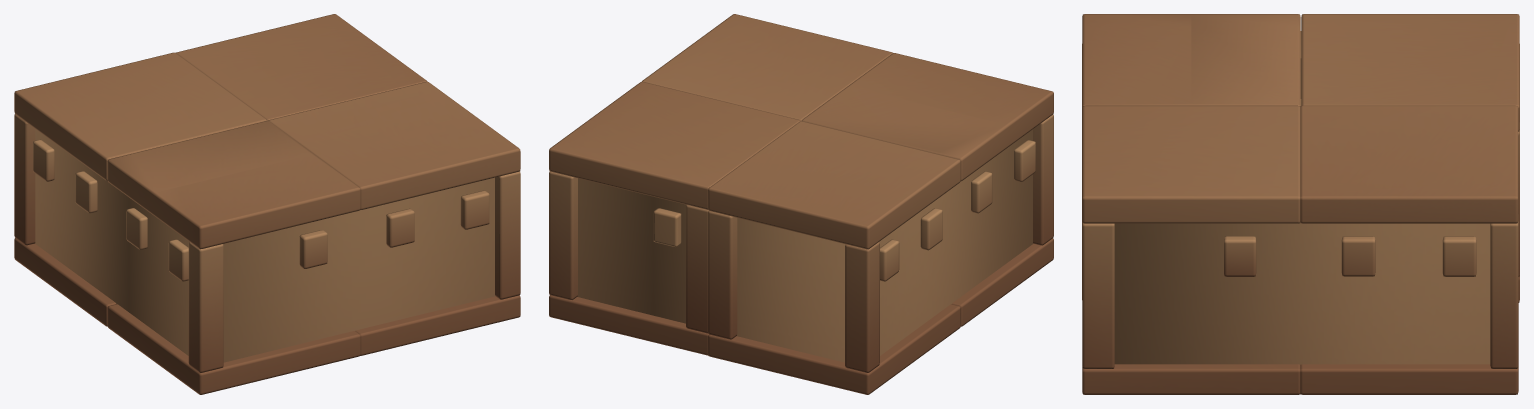
File: SM_Clay_Body_02.fbx
The picture shows the model from 3 angles, left to right: view 1: azimuth 30°, elevation 25°; view 2: azimuth 150°, elevation 25°; view 3: azimuth 270°, elevation 25°; orthographic projection. The views are drawn at different scales.
Parts seen in each view (by area): view 1: SM_Clay_Body_02; view 2: SM_Clay_Body_02; view 3: SM_Clay_Body_02.
Part boxes in pixels (bbox=[...]): SM_Clay_Body_02: bbox=[14, 14, 520, 394]; SM_Clay_Body_02: bbox=[549, 14, 1053, 394]; SM_Clay_Body_02: bbox=[1082, 14, 1519, 394].
Size of the model in its own units: 1.99 by 0.9989 by 2.
Materials: 1 (1 with a texture image).
